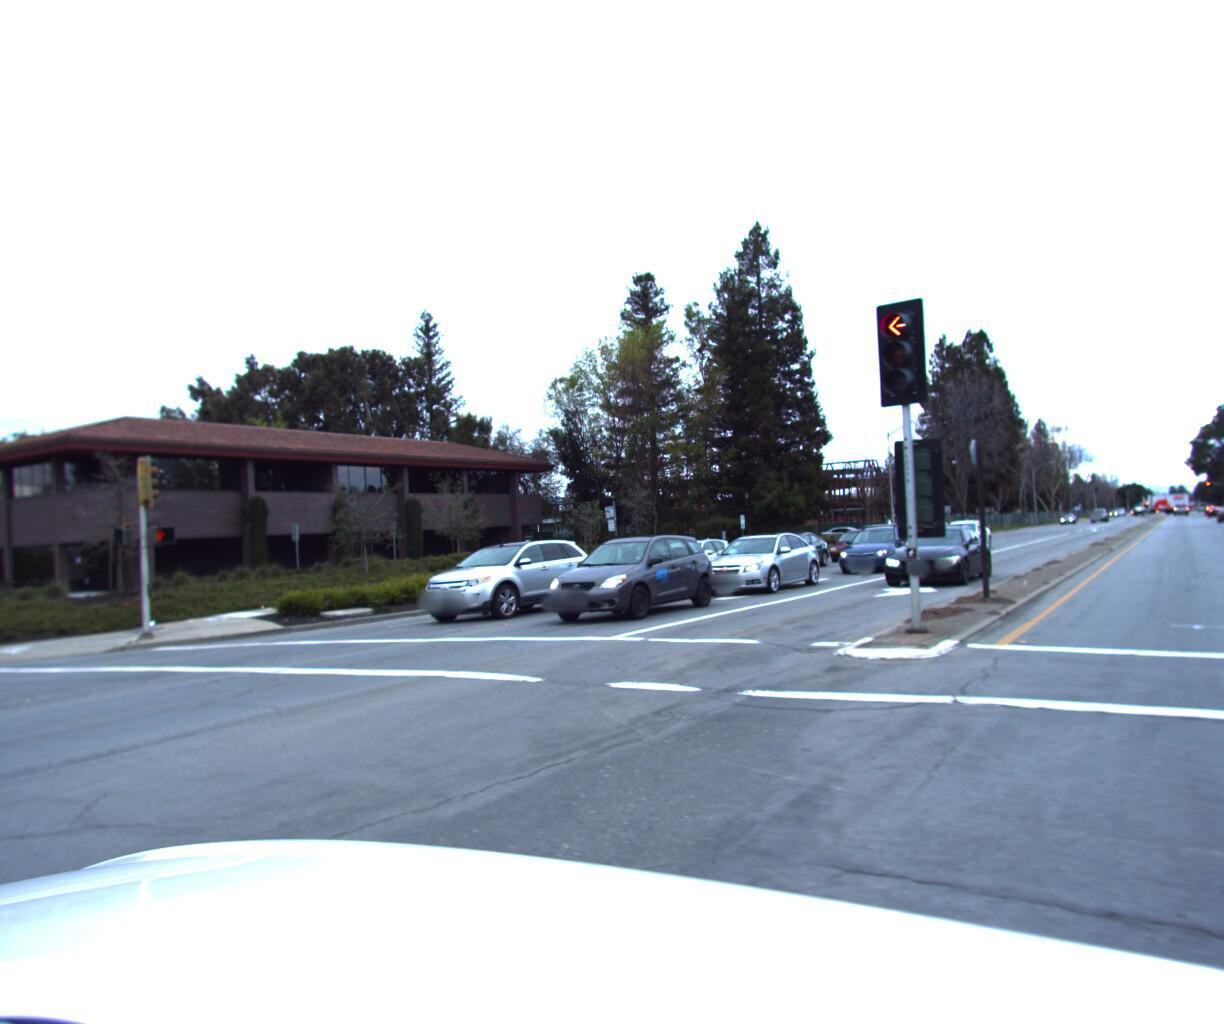car: (529, 528, 728, 627), (402, 532, 602, 624), (686, 525, 828, 593), (874, 518, 1000, 586), (626, 533, 748, 594), (829, 514, 926, 573), (741, 521, 832, 571), (817, 520, 895, 562), (932, 514, 994, 553), (1213, 500, 1224, 518)
